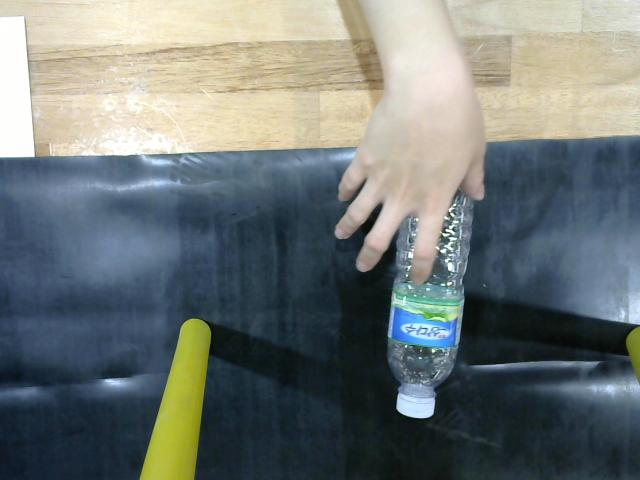bottle: (379, 191, 481, 426)
